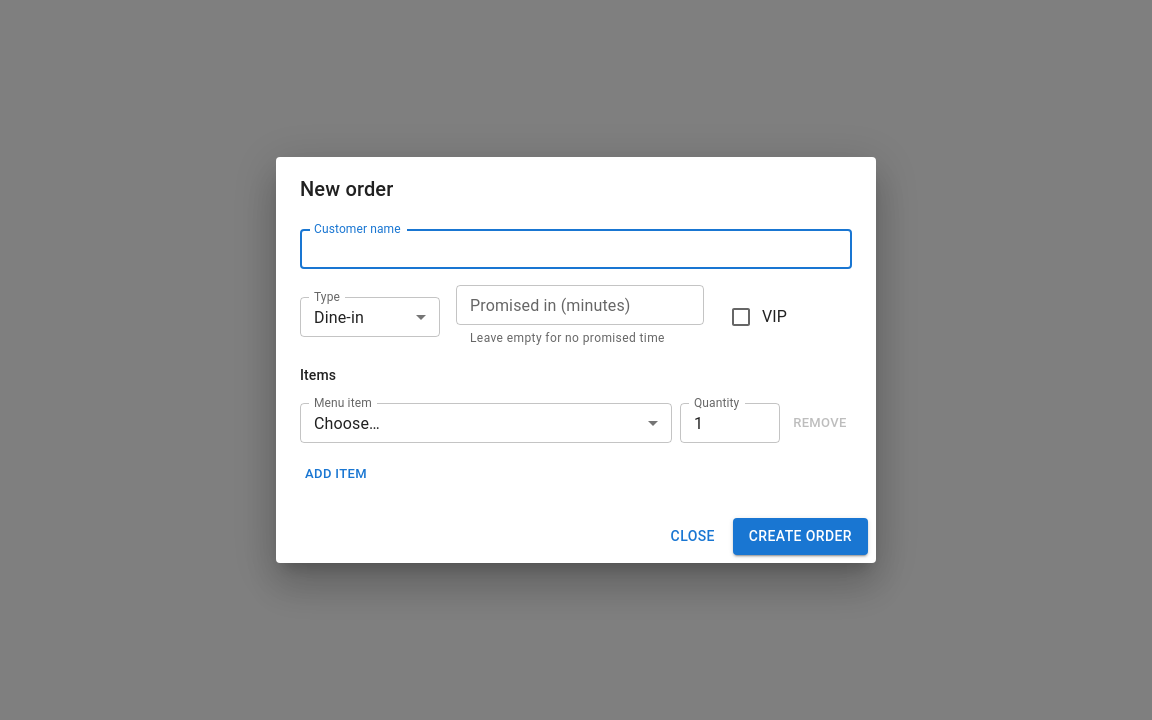
Test: NewOrderDialog › shows the API validation error inside the dialog
This screenshot has width=1152, height=720.
Click the button "Create order": (800, 536) [733,518,868,555]
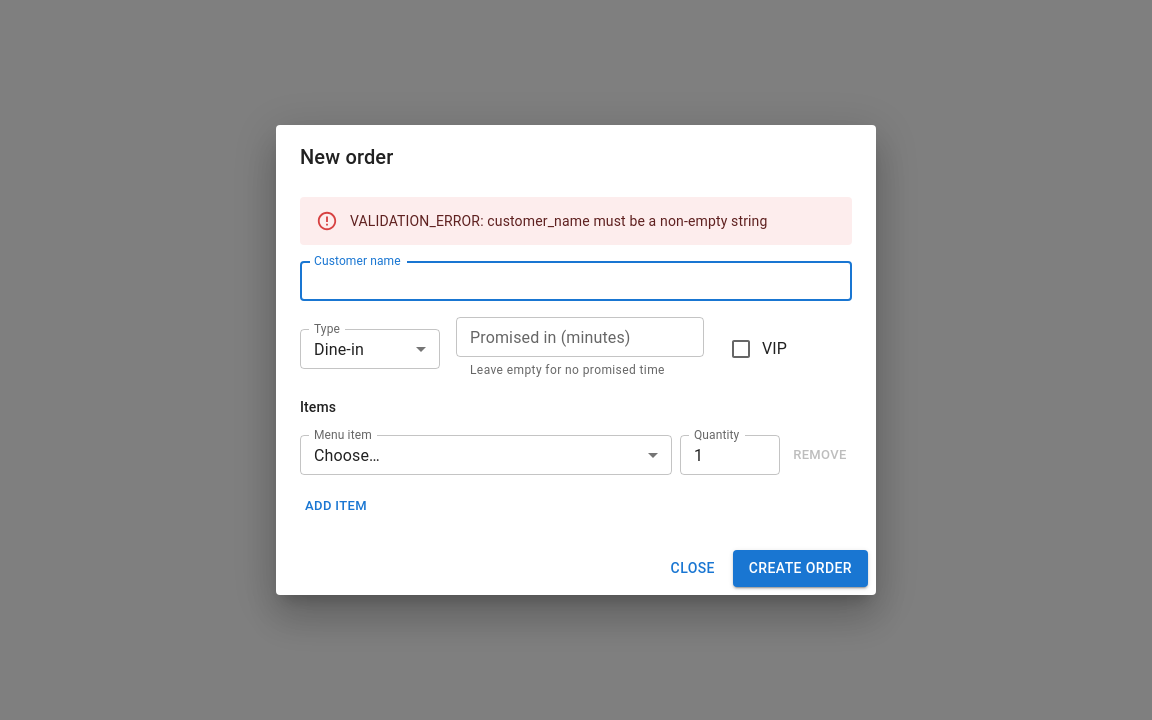
Result: the message reads "VALIDATION_ERROR: customer_name must be a non-empty string" at [350,213,768,229]
